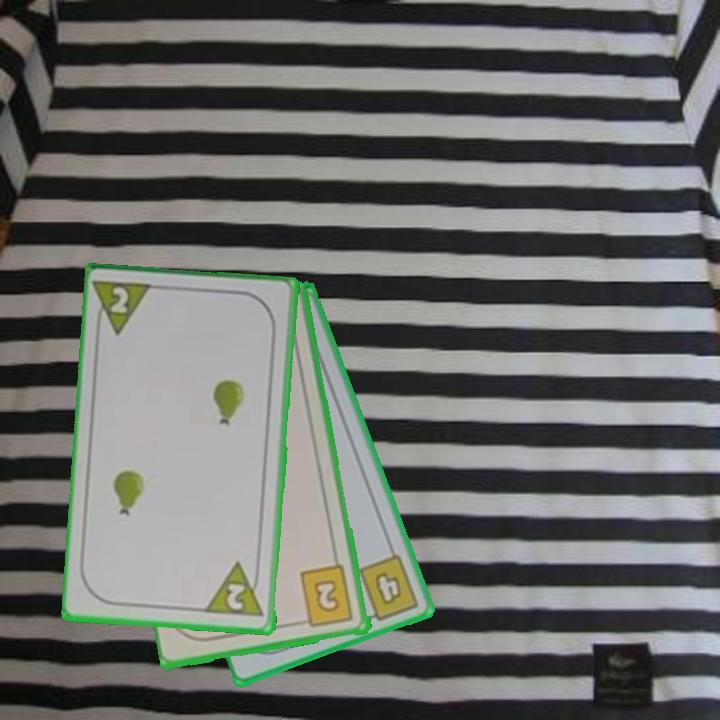2b: (295, 563, 357, 631)
2p: (202, 559, 268, 621), (92, 278, 158, 339)
4b: (355, 551, 423, 625)
